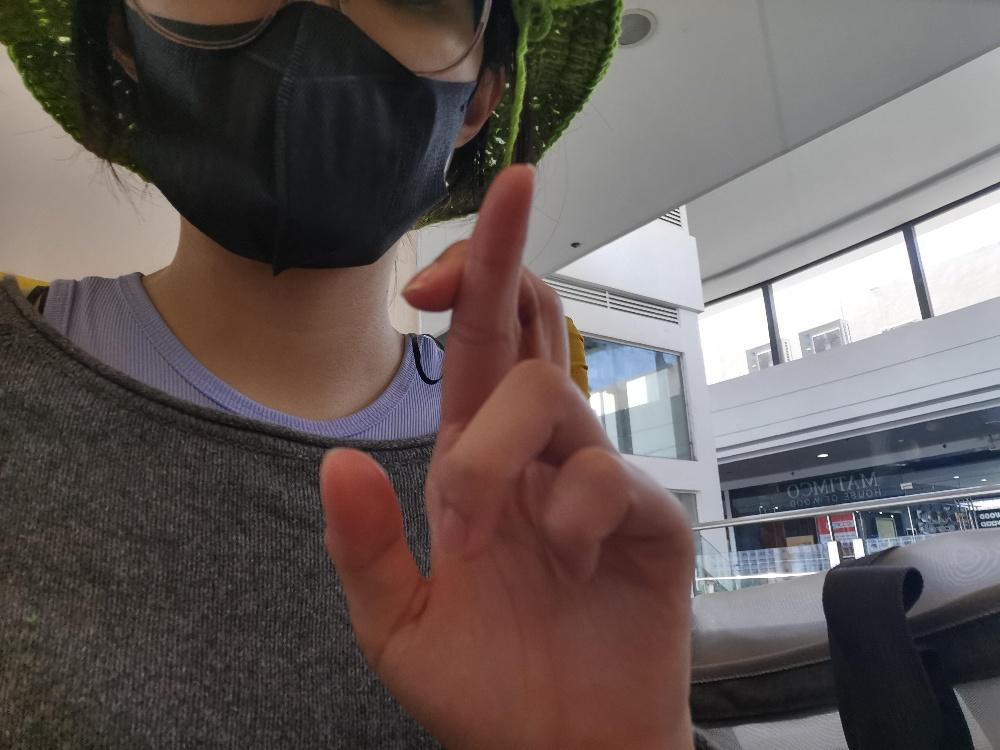r: (317, 159, 696, 749)
